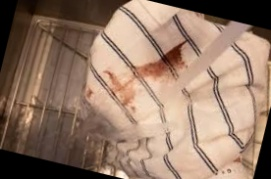wine: (135, 33, 196, 88), (94, 69, 147, 103), (82, 84, 100, 101)
